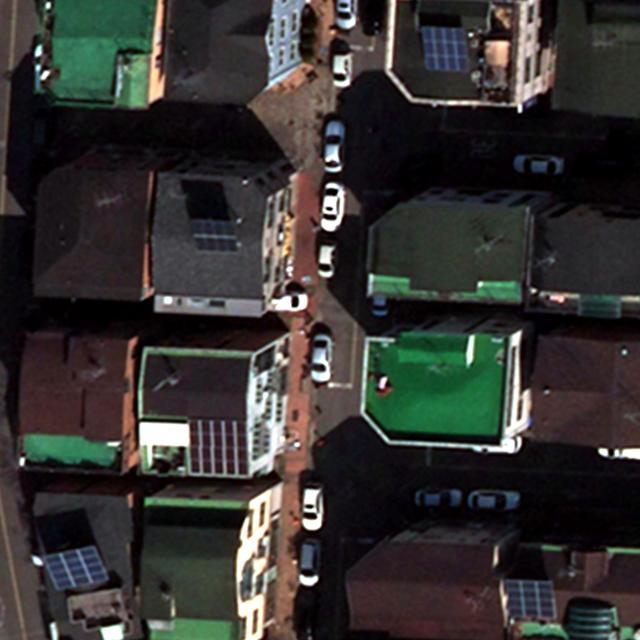panel: (184, 419, 249, 479), (39, 545, 112, 593), (501, 577, 556, 624), (420, 25, 469, 73), (188, 217, 240, 256)
